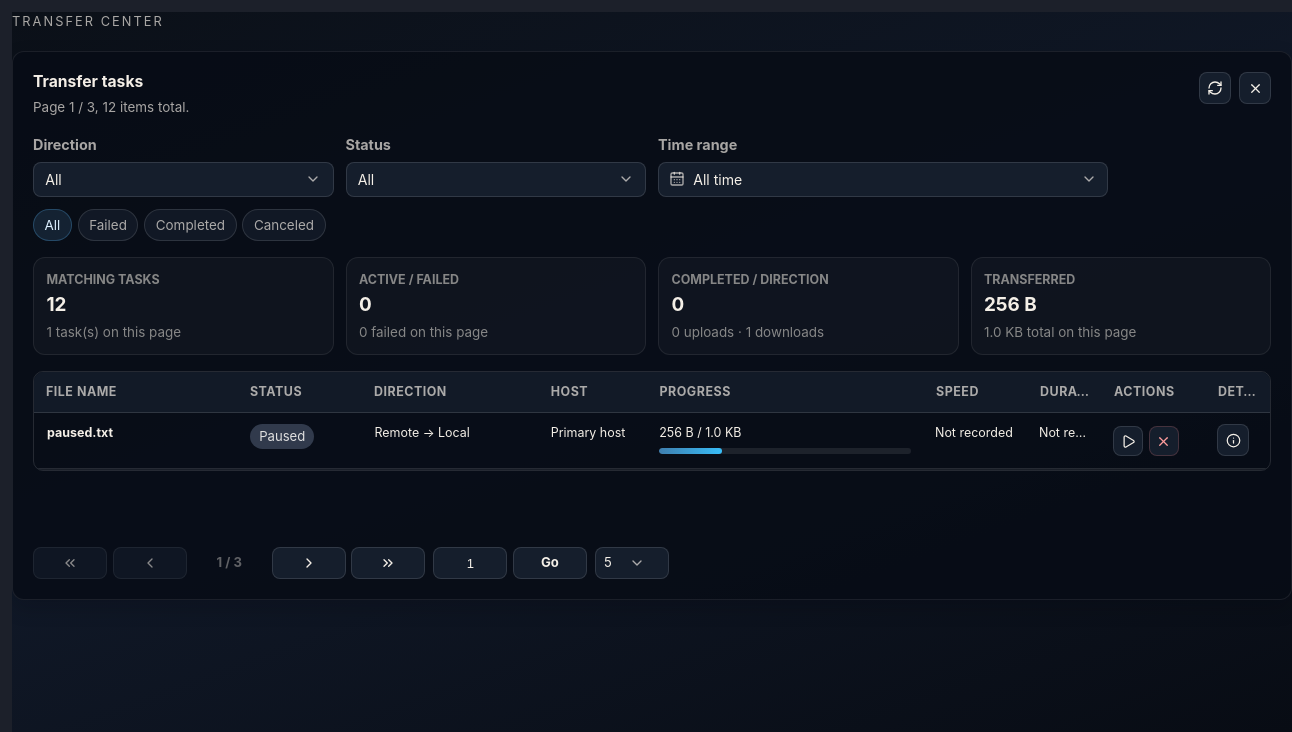
Scenario: TransfersPage › runs a control action, updates the task, and refreshes the current list
Expected: the text "paused.txt" is shown, [47,425,113,440]
Click the button named "Resume transfer".
click(1128, 441)  # box [1113,426,1143,456]
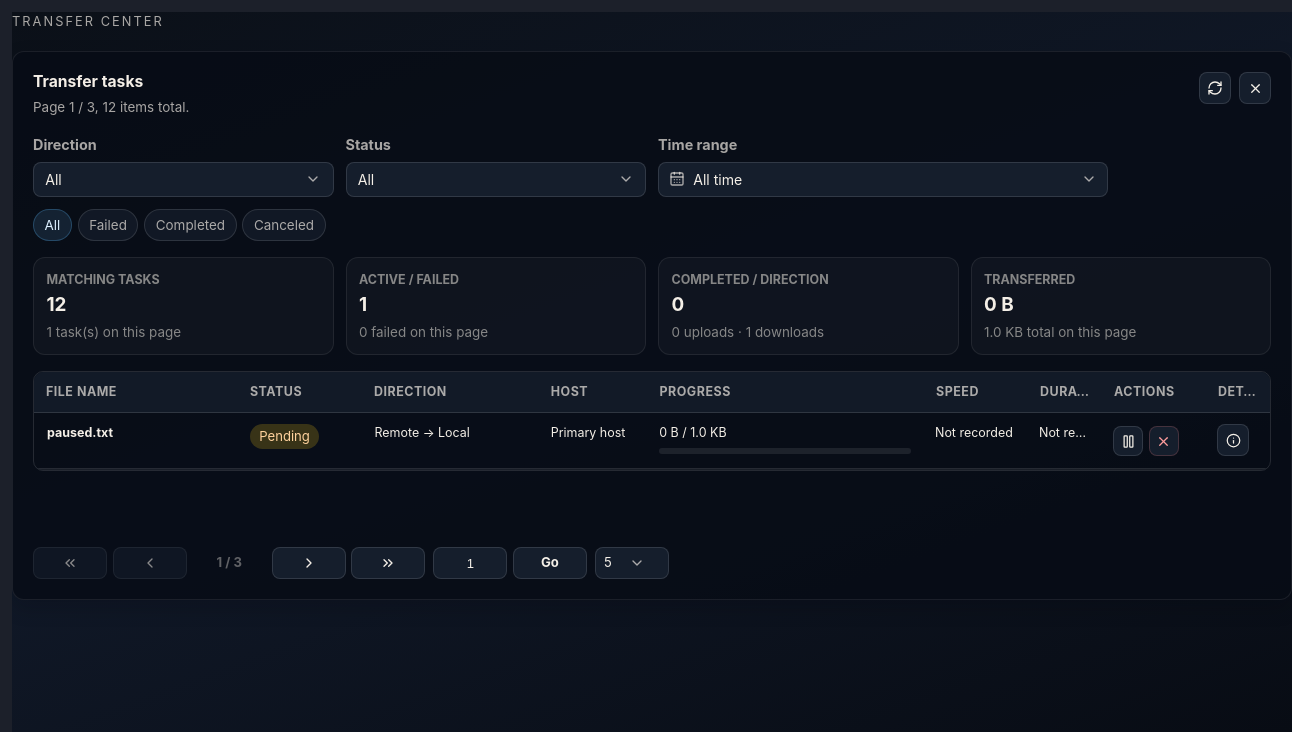
Expected: the text "paused.txt" is shown, [47,425,113,440]
Expected: the text "Pending" is shown, [250,424,319,449]
